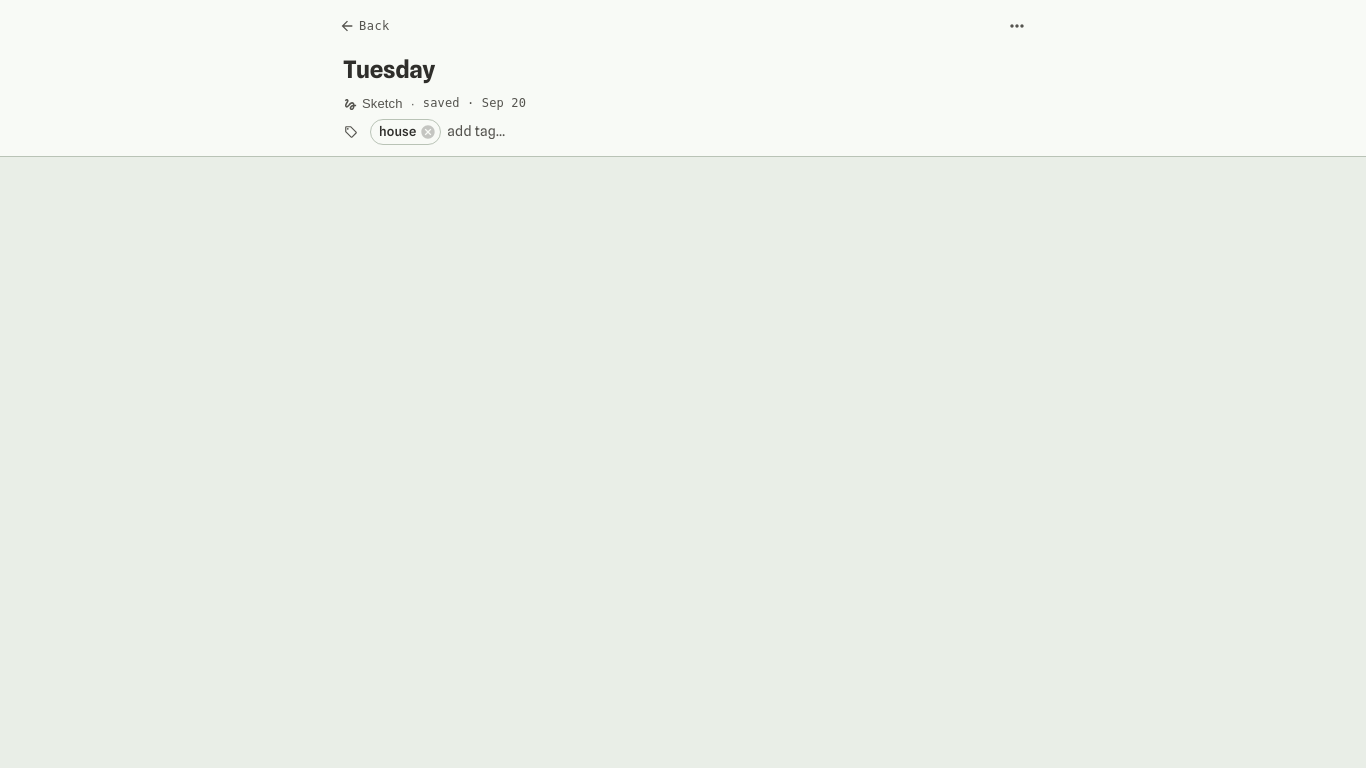
Test: reading the page › an export refused for size says so and sends nothing
This screenshot has width=1366, height=768.
What coordinates should you click on to do the following:
click the button named "More note actions"
I would click on:
 (1017, 26)
Its box is [1001,10,1033,42].
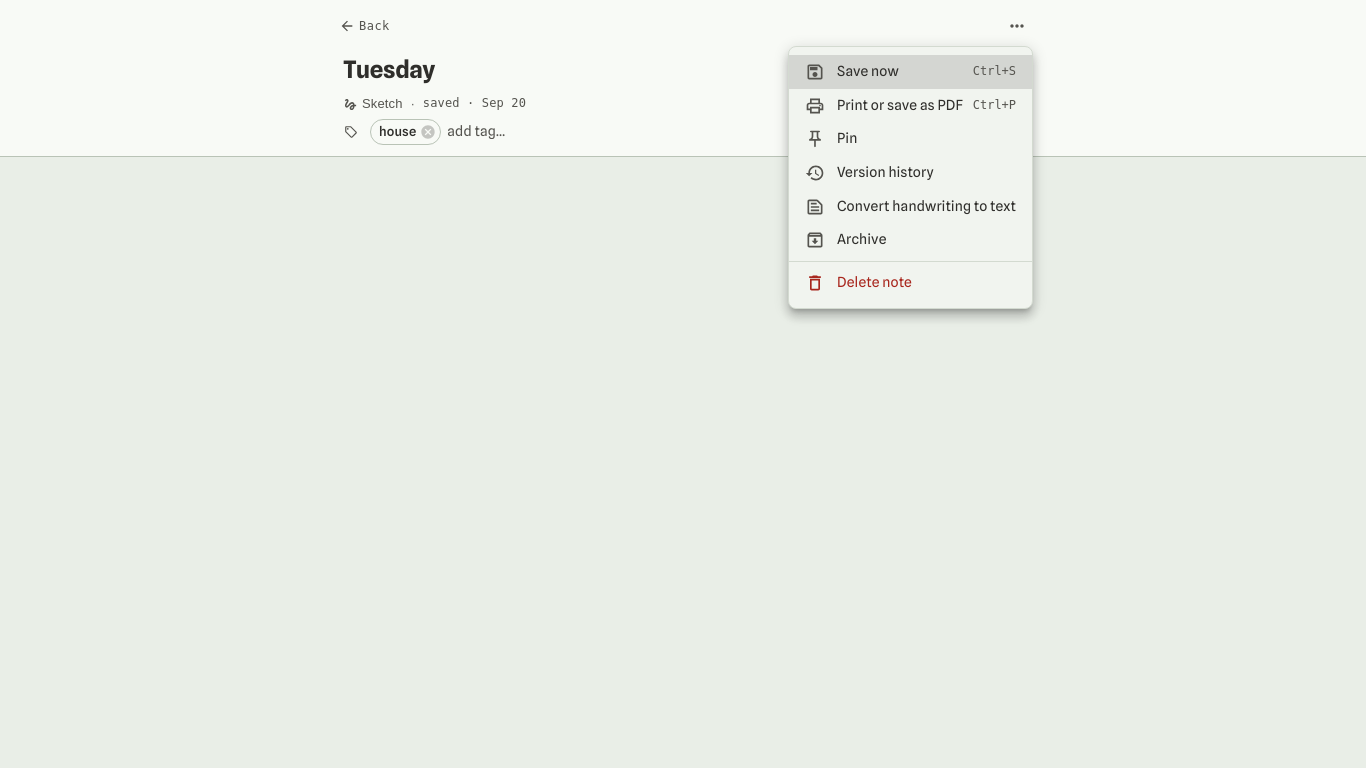
What coordinates should you click on to do the following:
click the menu item "Convert handwriting to text"
I would click on:
 (911, 207)
Its box is [805,197,1016,217].
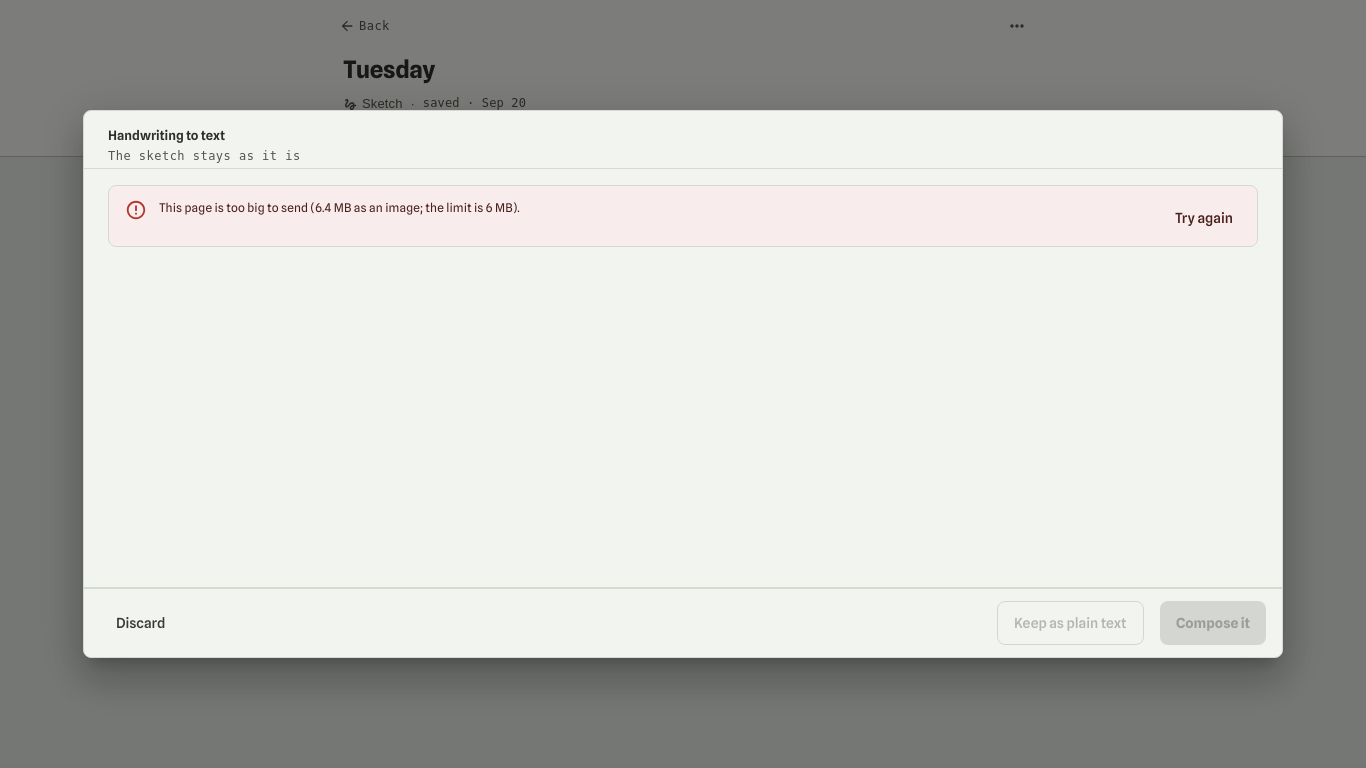
Check: the text "the limit is 6 MB" is shown, box [159,200,520,215]
